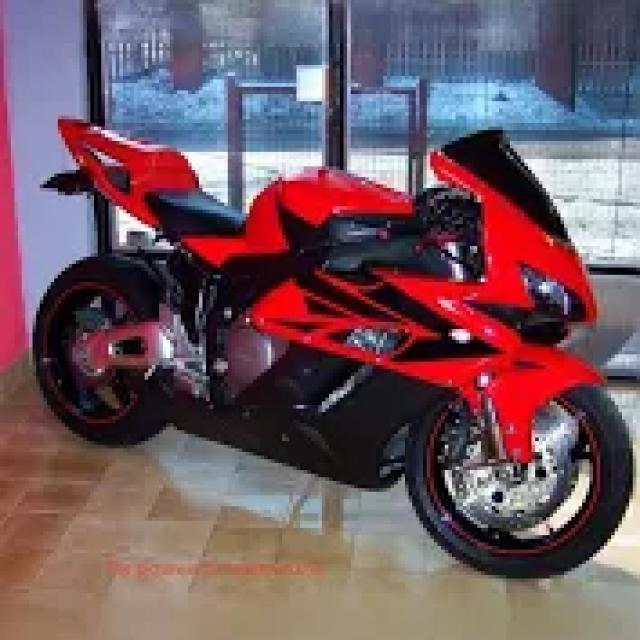motorcycle: (29, 112, 633, 579)
